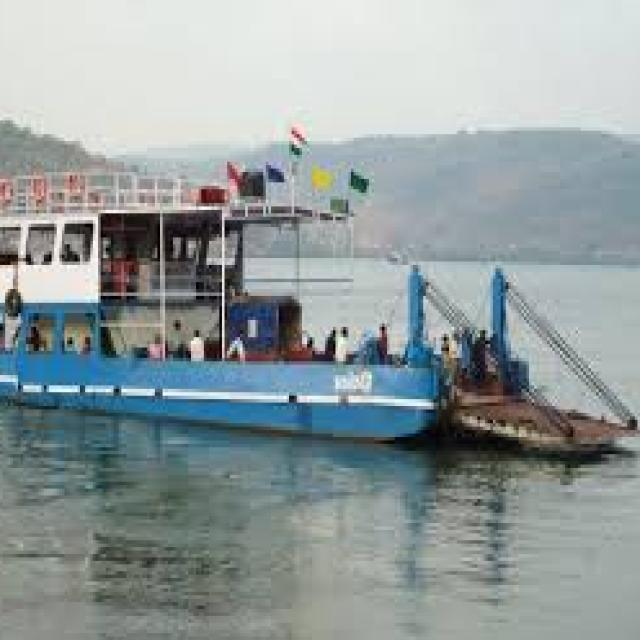fishing boat: (0, 113, 583, 440)
